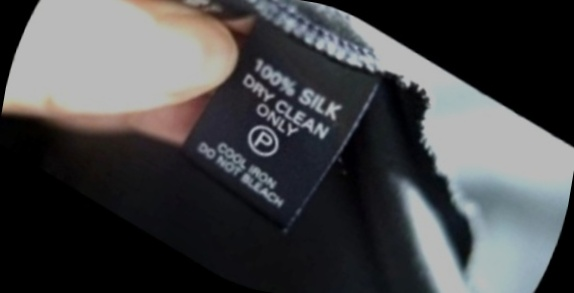dry_clean_any_solvent_except_trichloroethylene: (231, 107, 299, 174)
